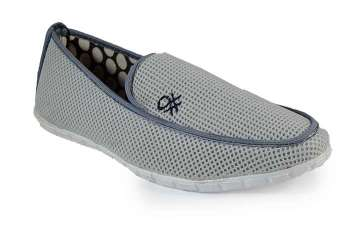Footwear: (32, 20, 336, 196)
